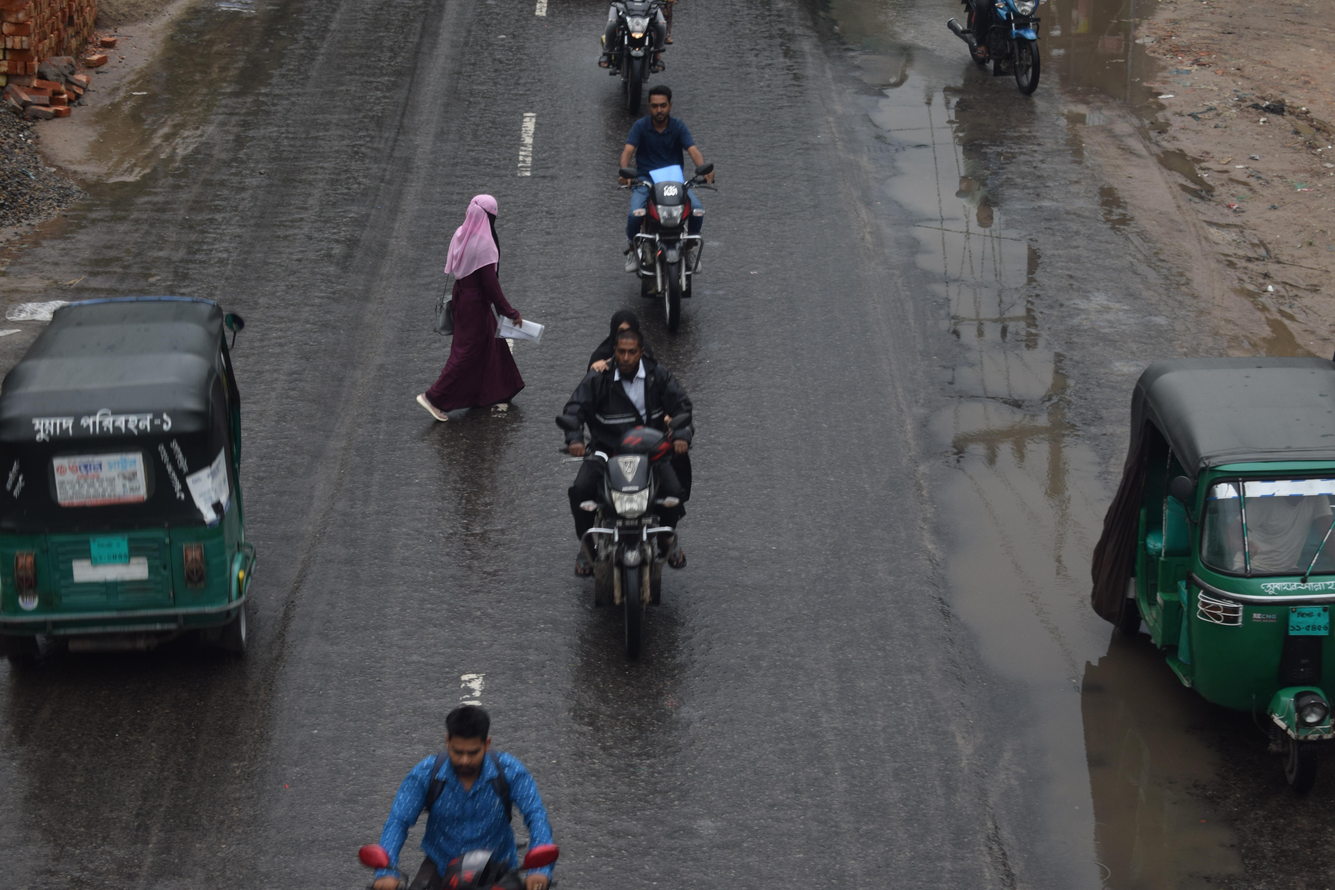Bike: (459, 266, 759, 688), (556, 58, 750, 346), (921, 0, 1092, 139), (572, 0, 720, 134)
